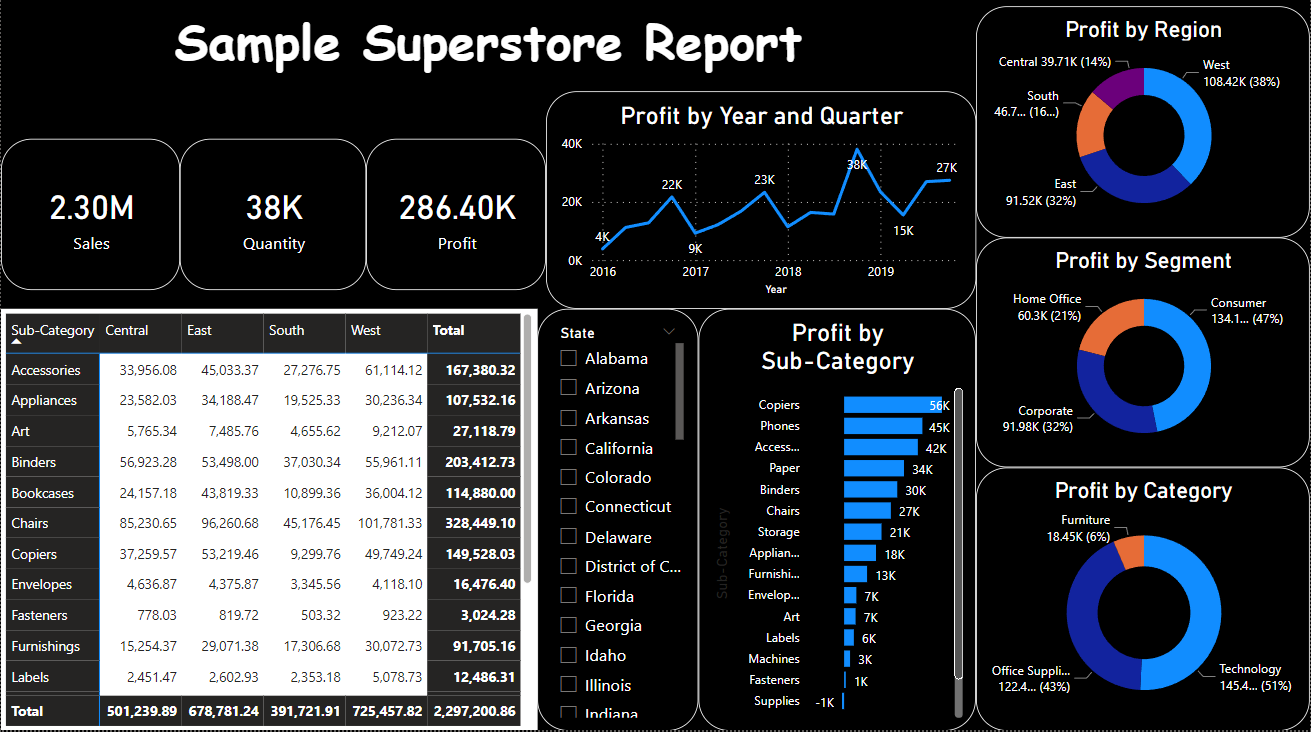

Layout of this report page (visuals, bound fields, positions):
{"tool":"powerbi","page":{"name":"Page 1","canvas":[1280,720],"ordinal":0},"visuals":[{"type":"textbox","box":[11,0,929,88],"z":0},{"type":"donutChart","title":"Profit by Category","fields":{"Category":["Orders.Category"],"Y":["Sum(Orders.Profit)"]},"box":[953.3,461.7,326.2,257.7],"z":1000},{"type":"donutChart","title":"Profit by Segment","fields":{"Y":["Sum(Orders.Profit)"],"Category":["Orders.Segment"]},"box":[953.3,236.8,326.2,224.9],"z":2000},{"type":"donutChart","title":"Profit by Region","fields":{"Y":["Sum(Orders.Profit)"],"Category":["Orders.Region"]},"box":[953.3,10.4,326.2,226.4],"z":3000},{"type":"barChart","title":" Profit by Sub-Category","fields":{"Category":["Orders.Sub-Category"],"Y":["Sum(Orders.Profit)"]},"box":[682.1,306.8,271.4,413.2],"z":4000},{"type":"slicer","fields":{"Values":["Orders.State"]},"box":[524.4,306.8,157.7,413.2],"z":5000},{"type":"pivotTable","fields":{"Rows":["Orders.Sub-Category"],"Columns":["Orders.Region"],"Values":["Sum(Orders.Sales)"]},"box":[0,306.8,524.4,413.2],"z":6000},{"type":"card","fields":{"Values":["Sum(Orders.Sales)"]},"box":[0,140.6,174.8,147.9],"z":7000},{"type":"card","fields":{"Values":["Sum(Orders.Profit)"]},"box":[356.9,140.6,176,147.9],"z":8000},{"type":"card","fields":{"Values":["Sum(Orders.Quantity)"]},"box":[174.8,140.6,182.1,147.9],"z":9000},{"type":"lineChart","title":"Profit by Year and Quarter","fields":{"Category":["Orders.Order Date.Variation.Date Hierarchy.Year","Orders.Order Date.Variation.Date Hierarchy.Quarter"],"Y":["Sum(Orders.Profit)"]},"box":[533,94.1,420.5,212.7],"z":10000}]}

Visuals, with their boxes in screenshot pixels (x1, y1, x2, y2), scaled from the page's 1280x720 canvas onto the 1311x732 screenshot:
textbox: <box>11,0,963,89</box>
"Profit by Category" donutChart: <box>976,469,1310,731</box>
"Profit by Segment" donutChart: <box>976,241,1310,469</box>
"Profit by Region" donutChart: <box>976,11,1310,241</box>
" Profit by Sub-Category" barChart: <box>699,312,977,731</box>
slicer - Orders.State: <box>537,312,699,731</box>
pivotTable - Orders.Sub-Category x Orders.Region: <box>0,312,537,731</box>
card - Sum(Orders.Sales): <box>0,143,179,293</box>
card - Sum(Orders.Profit): <box>366,143,546,293</box>
card - Sum(Orders.Quantity): <box>179,143,366,293</box>
"Profit by Year and Quarter" lineChart: <box>546,96,977,312</box>
